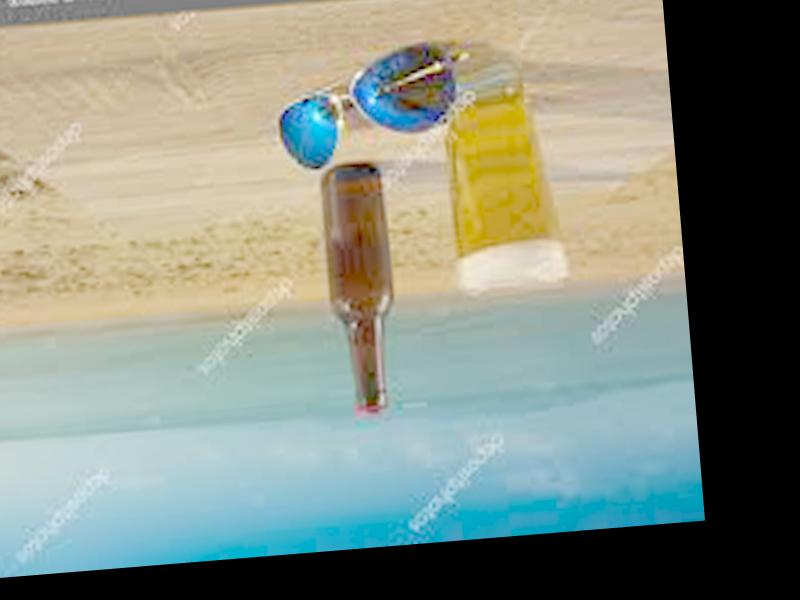Beer: (318, 163, 402, 418)
